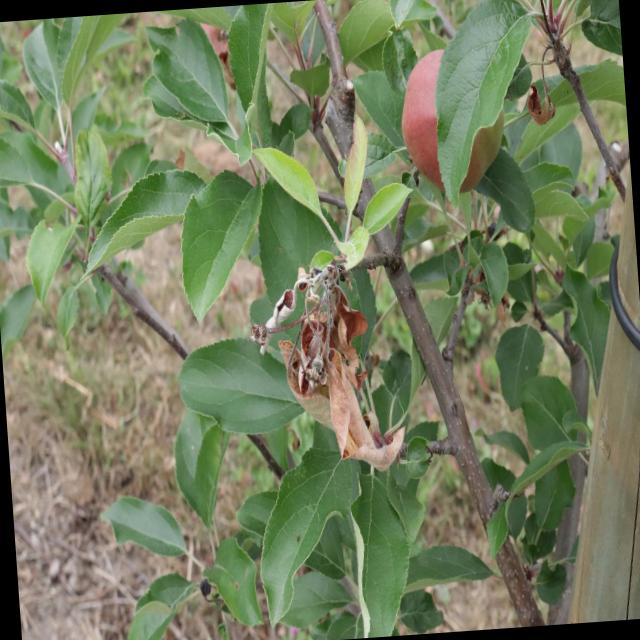-FireBlight-: (272, 256, 403, 480), (528, 78, 562, 128)
